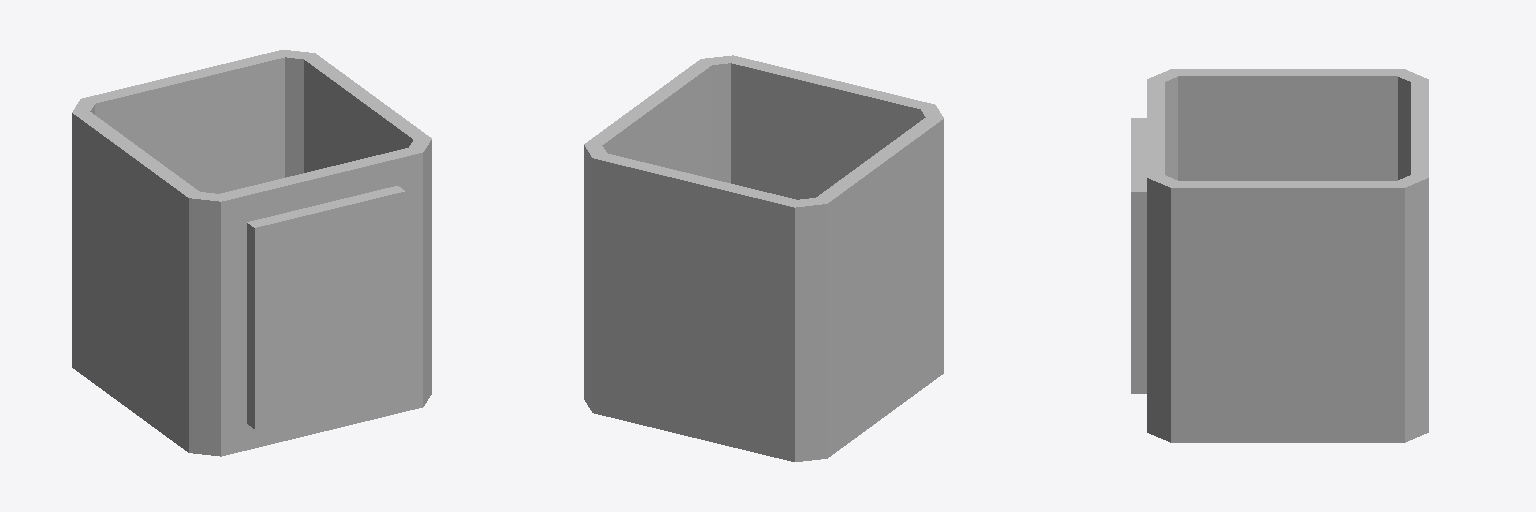
File: simple_box.obj
3 views of the same model, side by side, from view 1: azimuth 30°, elevation 25°; view 2: azimuth 150°, elevation 25°; view 3: azimuth 270°, elevation 25° (orthographic).
Visible parts, largest first — view 1: Cube; view 2: Cube; view 3: Cube.
Part boxes in pixels (bbox=[...]): Cube: bbox=[72, 50, 431, 456]; Cube: bbox=[584, 55, 943, 461]; Cube: bbox=[1131, 69, 1428, 442].
Size of the model in its own units: 2 by 2 by 2.11.